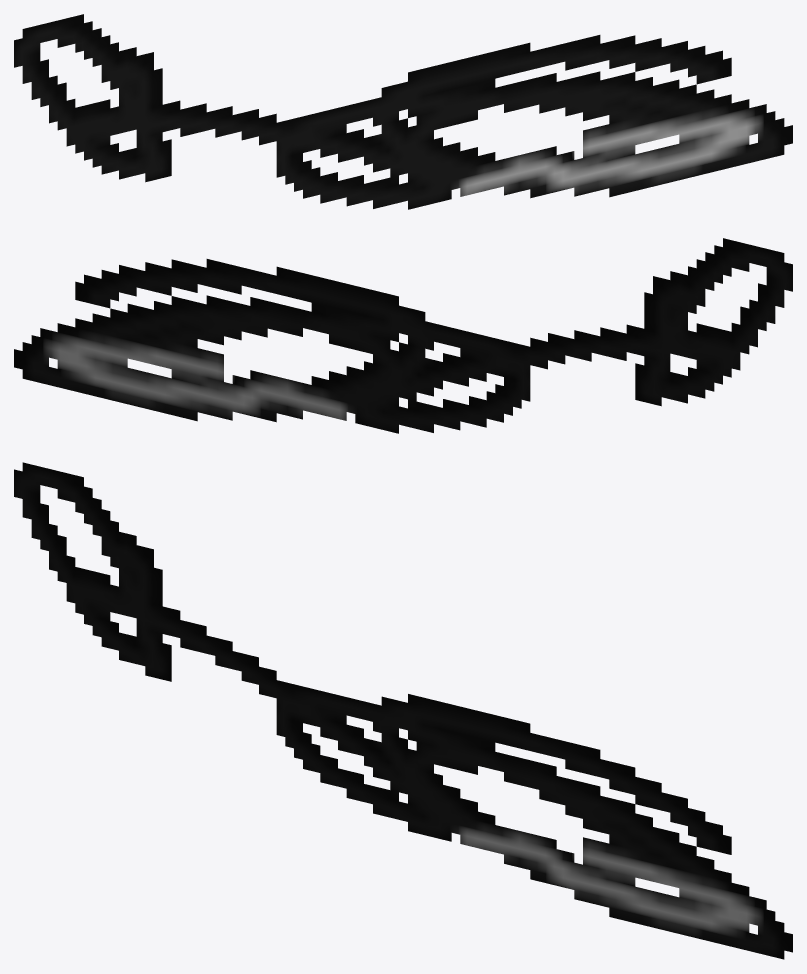
The model's file is drawing_20260427_112352.obj.
3 renders of one model, top to bottom at view 1: azimuth 30°, elevation 25°; view 2: azimuth 150°, elevation 25°; view 3: azimuth 330°, elevation 25°, orthographic.
Visible parts, largest first — view 1: DrawingExtruded; view 2: DrawingExtruded; view 3: DrawingExtruded.
Part boxes in pixels (x1,y1,x2,y2): DrawingExtruded: (14, 14, 792, 209); DrawingExtruded: (14, 238, 792, 433); DrawingExtruded: (14, 462, 792, 959).
Bounding box in the file's own units: 89 × 34 × 0.
1 material, 1 textured.
